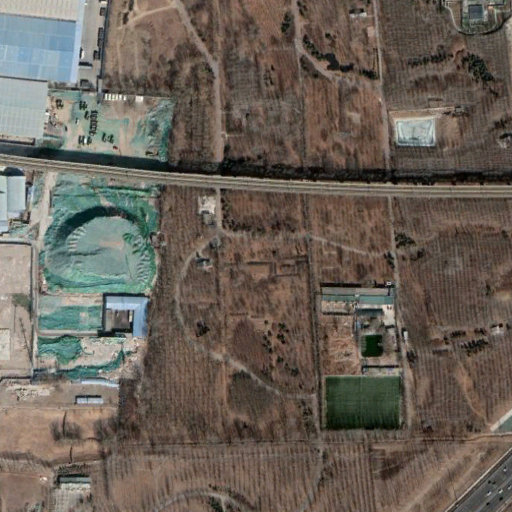cw: (32, 167, 161, 382), (49, 81, 177, 169)
